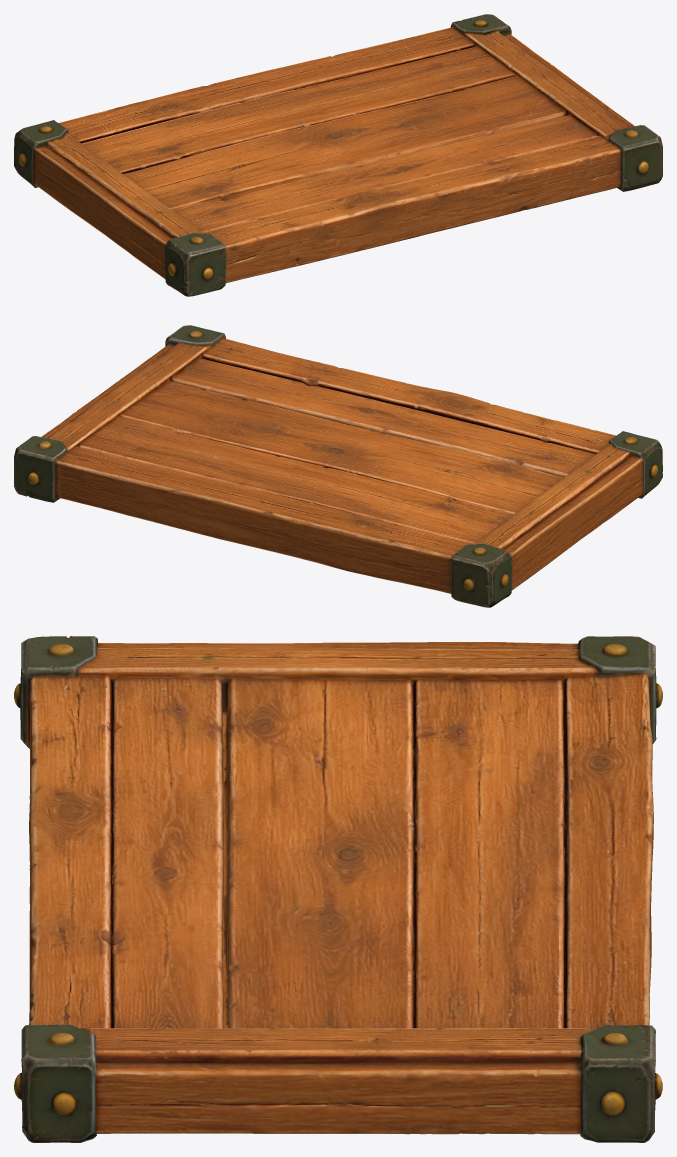
File: original.glb
The picture shows the model from 3 angles, top to bottom: view 1: azimuth 30°, elevation 25°; view 2: azimuth 150°, elevation 25°; view 3: azimuth 270°, elevation 25°; orthographic projection. The views are drawn at different scales.
Visible parts, largest first — view 1: tripo_node_765cabff-43d8-4756-85d0-75ea4d3a5279; view 2: tripo_node_765cabff-43d8-4756-85d0-75ea4d3a5279; view 3: tripo_node_765cabff-43d8-4756-85d0-75ea4d3a5279.
Part boxes in pixels (x1,y1,x2,y2): tripo_node_765cabff-43d8-4756-85d0-75ea4d3a5279: [14, 14, 662, 296]; tripo_node_765cabff-43d8-4756-85d0-75ea4d3a5279: [14, 325, 662, 607]; tripo_node_765cabff-43d8-4756-85d0-75ea4d3a5279: [14, 636, 662, 1142].
Size of the model in its own units: 0.979 by 0.1025 by 0.6161.
Materials: 1 (1 with a texture image).
